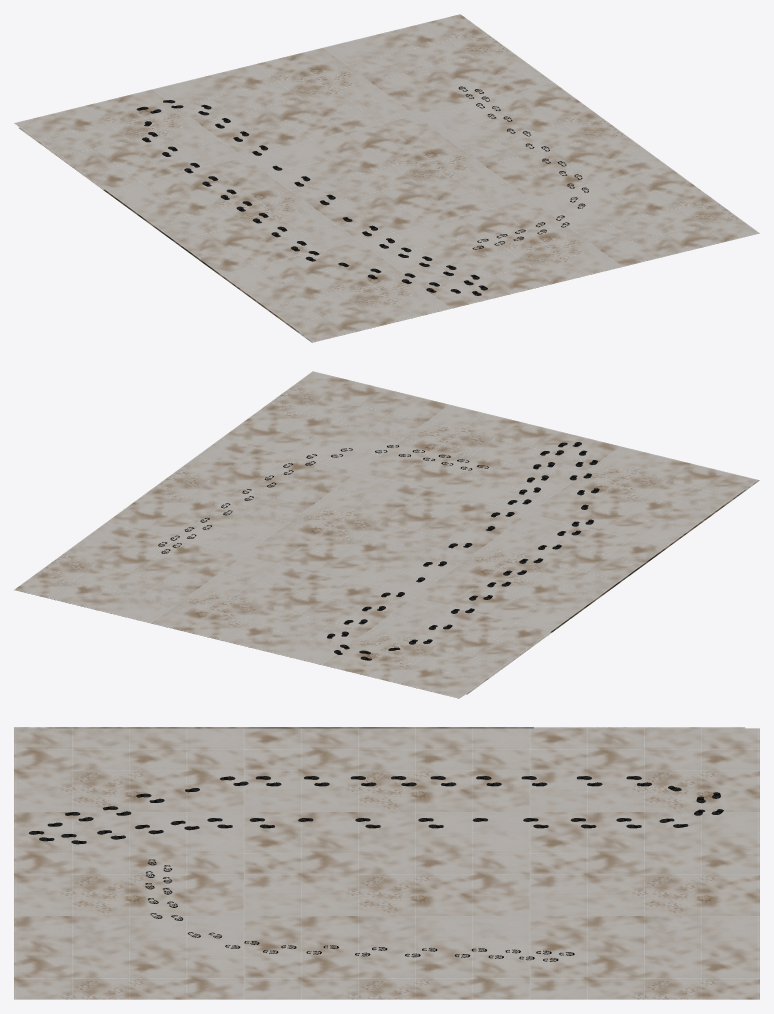
The model's file is FLOOR OF SRORE 1.fbx.
The picture shows the model from 3 angles, top to bottom: view 1: azimuth 30°, elevation 25°; view 2: azimuth 150°, elevation 25°; view 3: azimuth 270°, elevation 25°; orthographic projection. The views are drawn at different scales.
Visible parts, largest first — view 1: polySurface66; view 2: polySurface66; view 3: polySurface66.
Part boxes in pixels (x1,y1,x2,y2): polySurface66: [14, 14, 759, 342]; polySurface66: [14, 371, 759, 698]; polySurface66: [14, 727, 759, 999].
Size of the model in its own units: 10.57 by 0.00428 by 12.24.
5 materials, 5 textured.
